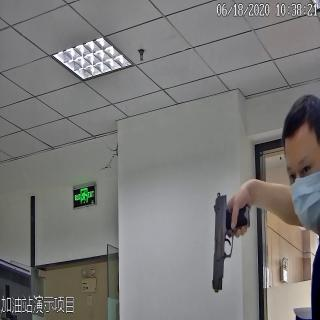gun: (207, 189, 254, 292)
